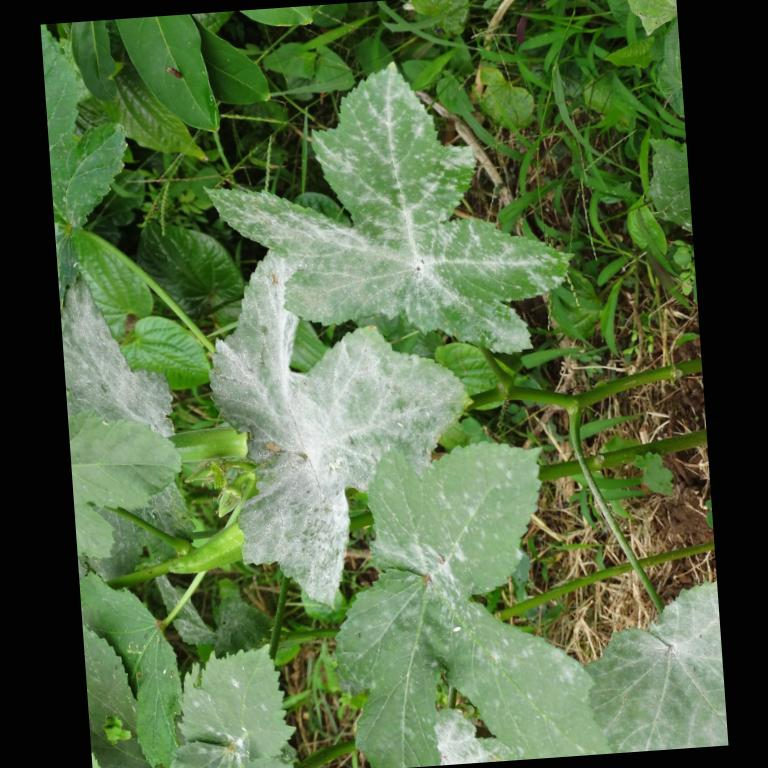powdery-mildew: (296, 346, 414, 470), (353, 193, 457, 313)
